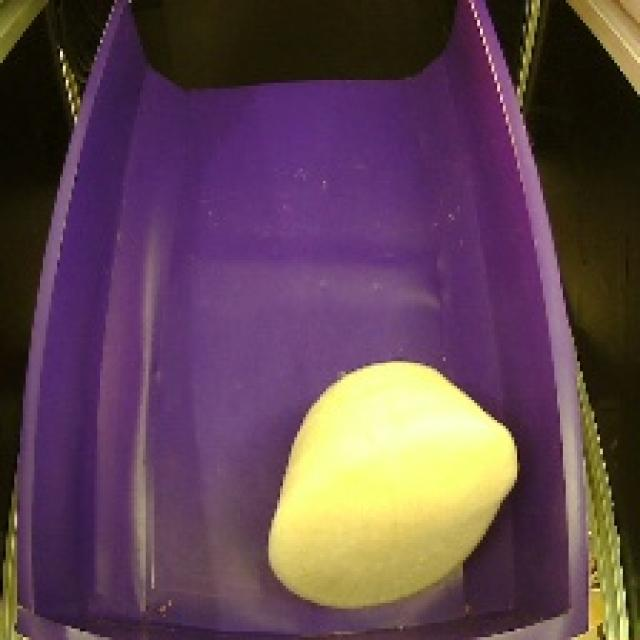white_radish: (259, 352, 524, 620)
